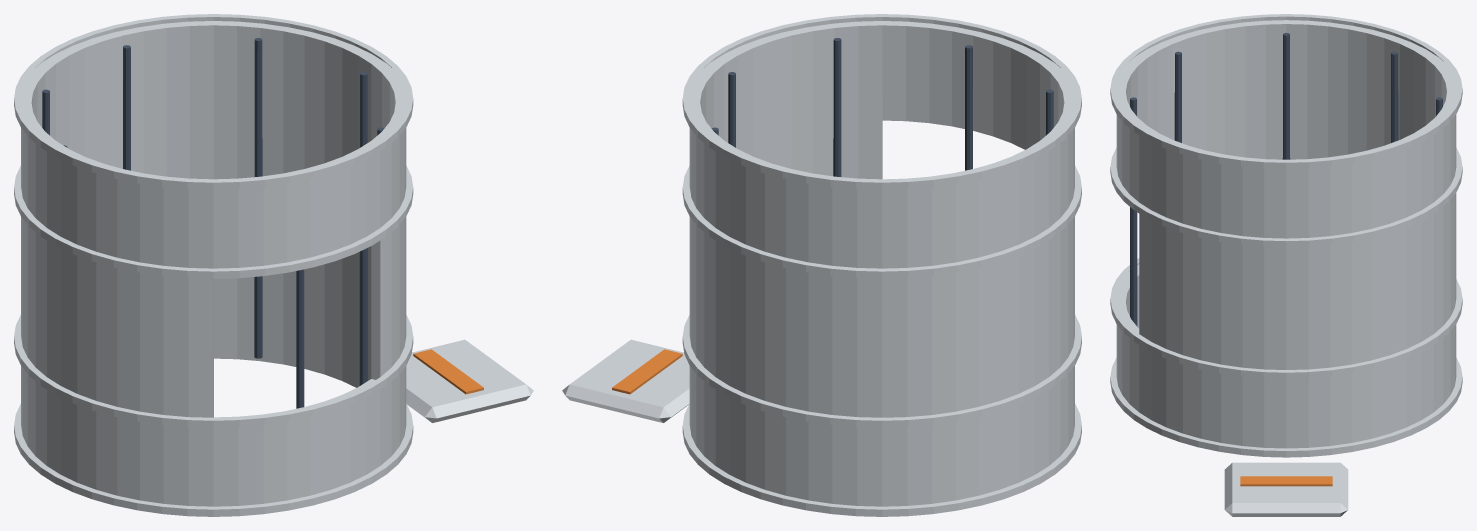
3 renders of one model, left to right at view 1: azimuth 30°, elevation 25°; view 2: azimuth 150°, elevation 25°; view 3: azimuth 270°, elevation 25°, orthographic. The views are drawn at different scales.
Visible parts, largest first — view 1: RE-001 Modular hull inspection barrel batched; view 2: RE-001 Modular hull inspection barrel batched; view 3: RE-001 Modular hull inspection barrel batched.
Part boxes in pixels (x1=…): RE-001 Modular hull inspection barrel batched: x1=14, y1=14, x2=533, y2=516; RE-001 Modular hull inspection barrel batched: x1=562, y1=14, x2=1081, y2=516; RE-001 Modular hull inspection barrel batched: x1=1110, y1=14, x2=1462, y2=516.
Bounding box in the file's own units: 3.05 × 2.19 × 2.28.
